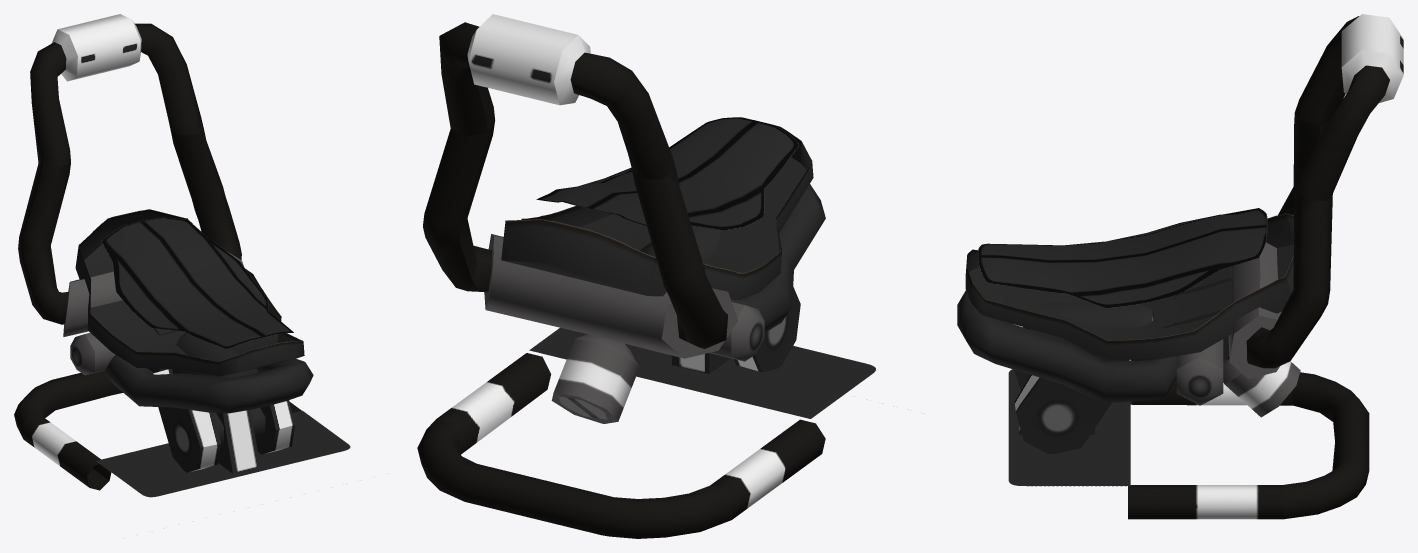
File: obj_interactive_saddle_03.fbx
3 views of the same model, side by side, from view 1: azimuth 30°, elevation 25°; view 2: azimuth 150°, elevation 25°; view 3: azimuth 270°, elevation 25° (orthographic). The views are drawn at different scales.
Visible parts, largest first — view 1: obj_interactive_saddle_03; view 2: obj_interactive_saddle_03; view 3: obj_interactive_saddle_03.
Boxes of the visible parts, x1=… form: obj_interactive_saddle_03: x1=14, y1=14, x2=350, y2=497; obj_interactive_saddle_03: x1=417, y1=14, x2=875, y2=538; obj_interactive_saddle_03: x1=957, y1=14, x2=1403, y2=519.
Bounding box in the file's own units: 2.77 × 3.62 × 3.4.
